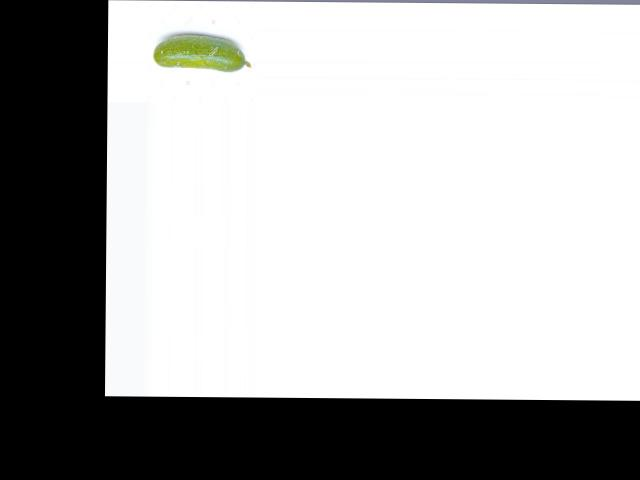cucumber: (152, 34, 251, 72)
